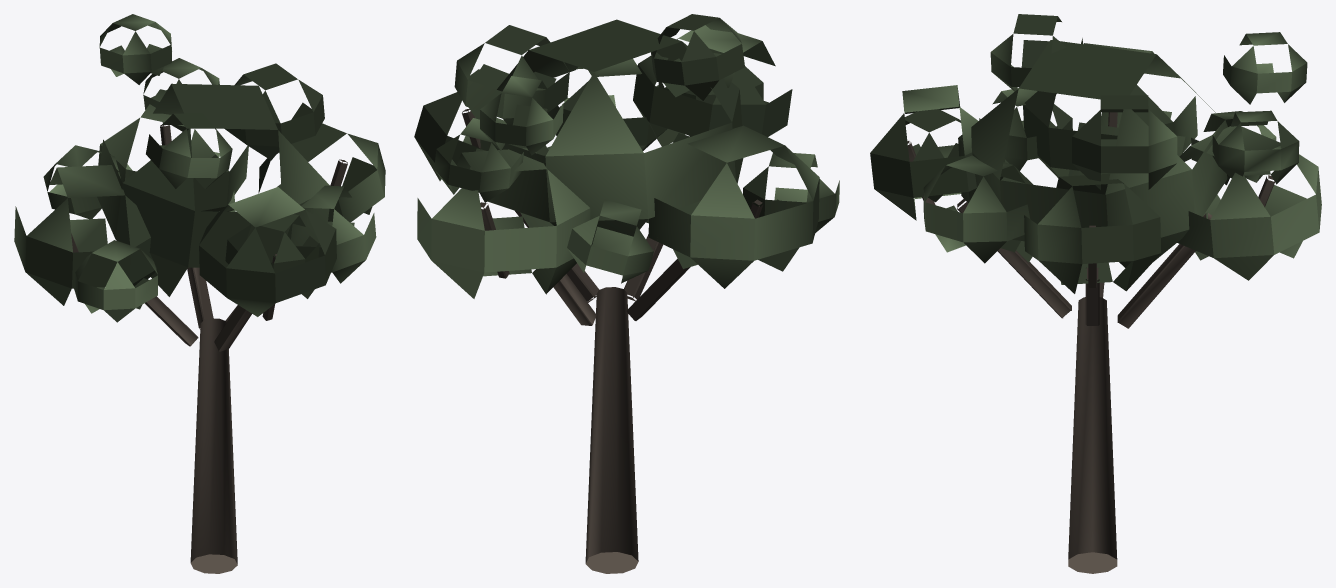
Rendered from tree_broadleaf.glb.
The picture shows the model from 3 angles, left to right: view 1: azimuth 30°, elevation 25°; view 2: azimuth 150°, elevation 25°; view 3: azimuth 270°, elevation 25°; orthographic projection. The views are drawn at different scales.
Parts seen in each view (by area): view 1: props_tree_broadleaf; view 2: props_tree_broadleaf; view 3: props_tree_broadleaf.
Boxes of the visible parts, x1,y1,x2,y2 form: props_tree_broadleaf: (14, 14, 385, 573); props_tree_broadleaf: (414, 14, 839, 573); props_tree_broadleaf: (870, 14, 1321, 573).
Bounding box in the file's own units: 4.43 × 5.85 × 4.58.
